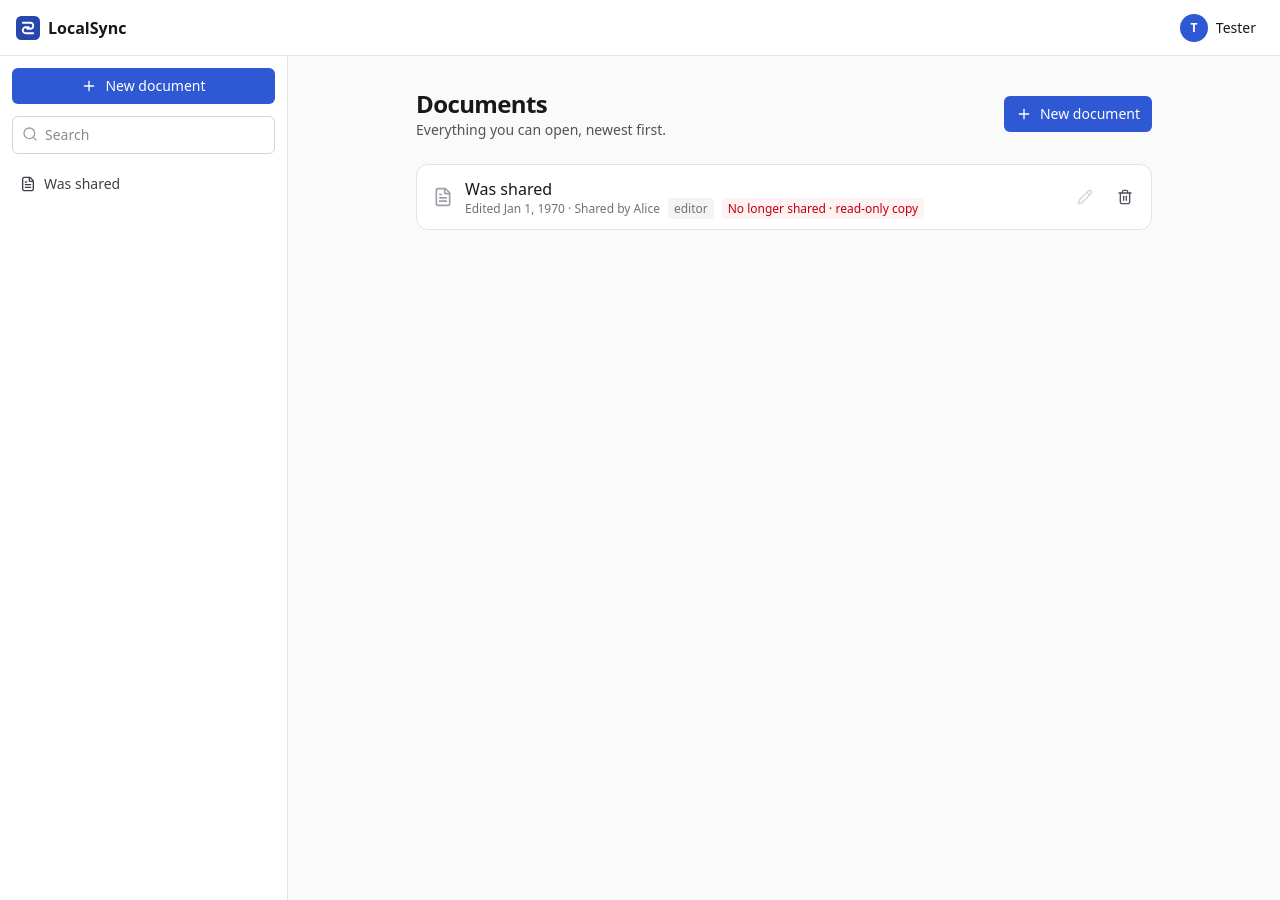
dashboard › shows a revoked copy as read-only with a "Remove" action (not Rename / Leave / Delete)
Expected: the text "No longer shared · read-only copy" is shown, [722,198,924,219]
Expected: the button named "Rename Was shared" is disabled, [1067,179,1103,215]
Click the button named "Remove Was shared from this device" at {"x": 1125, "y": 197}, box [1107,179,1143,215]
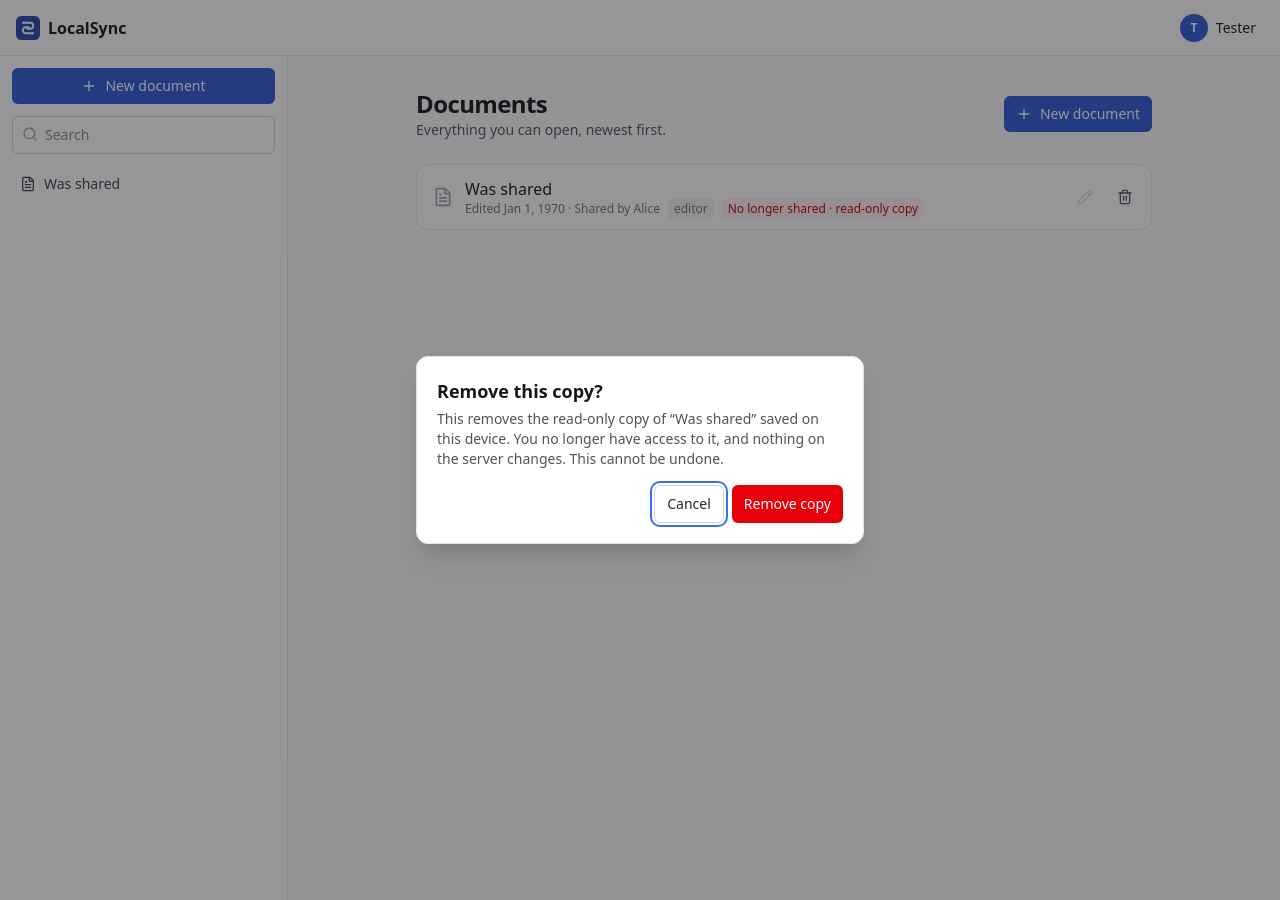
Now the text "nothing on the server changes" is shown, box [437,409,825,468]
Click the button "Remove copy" at {"x": 787, "y": 504}, box [732,485,843,523]
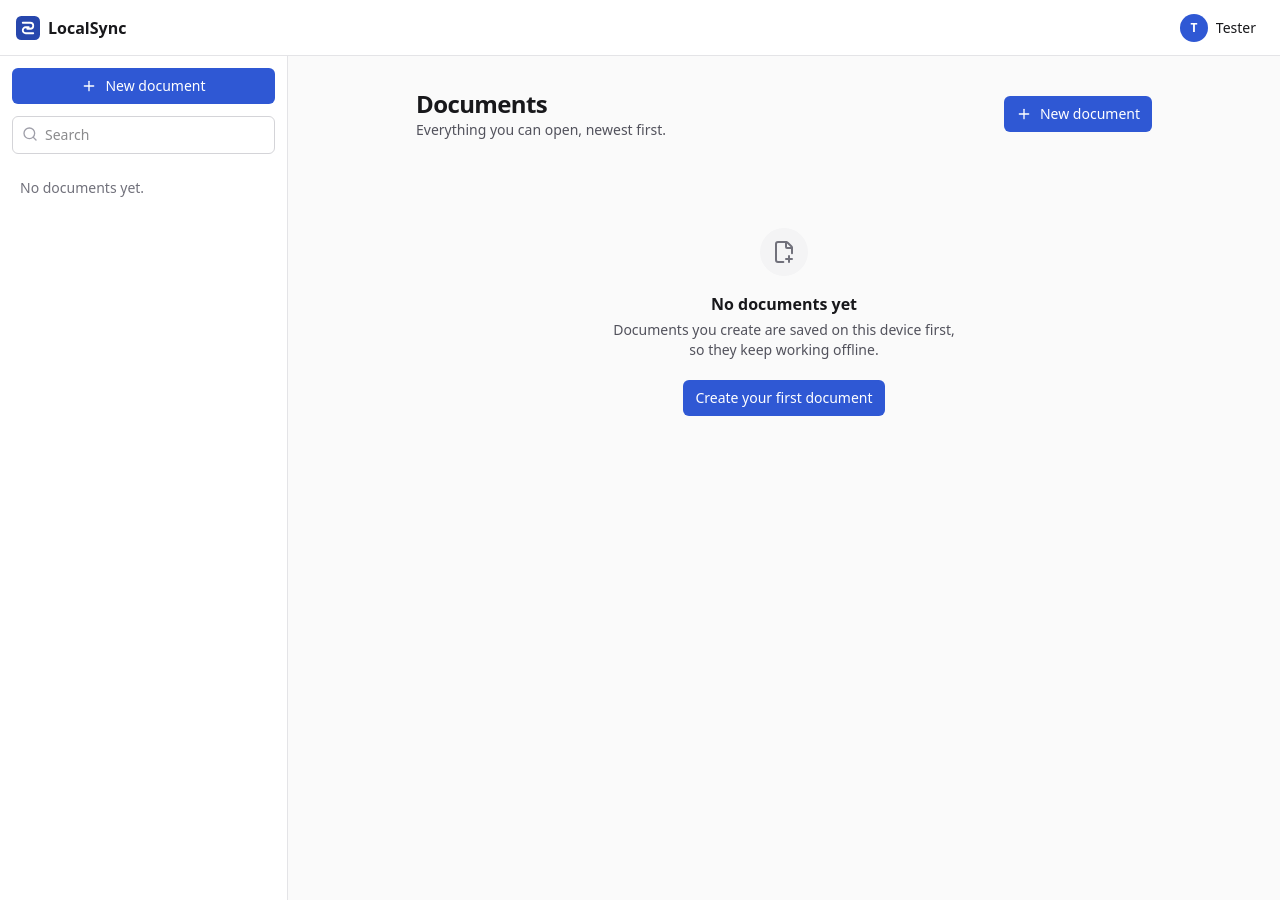
Now the heading "No documents yet" is shown, box [711,292,857,316]
